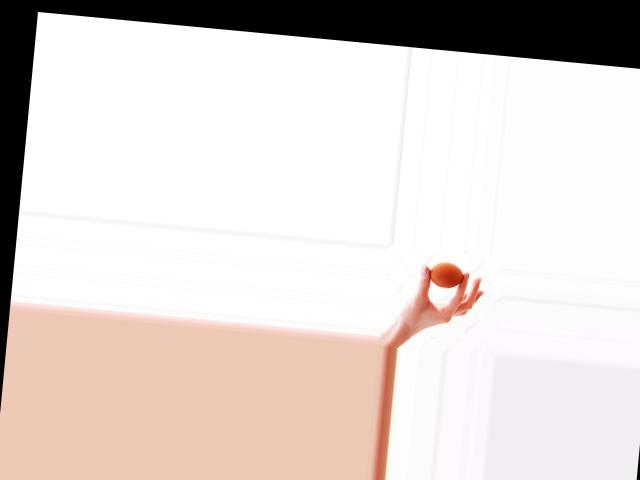egg: (428, 260, 464, 288)
